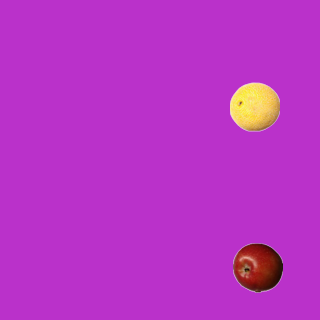Apple Braeburn: (232, 242, 282, 292)
Cantaloupe 1: (229, 81, 279, 131)
